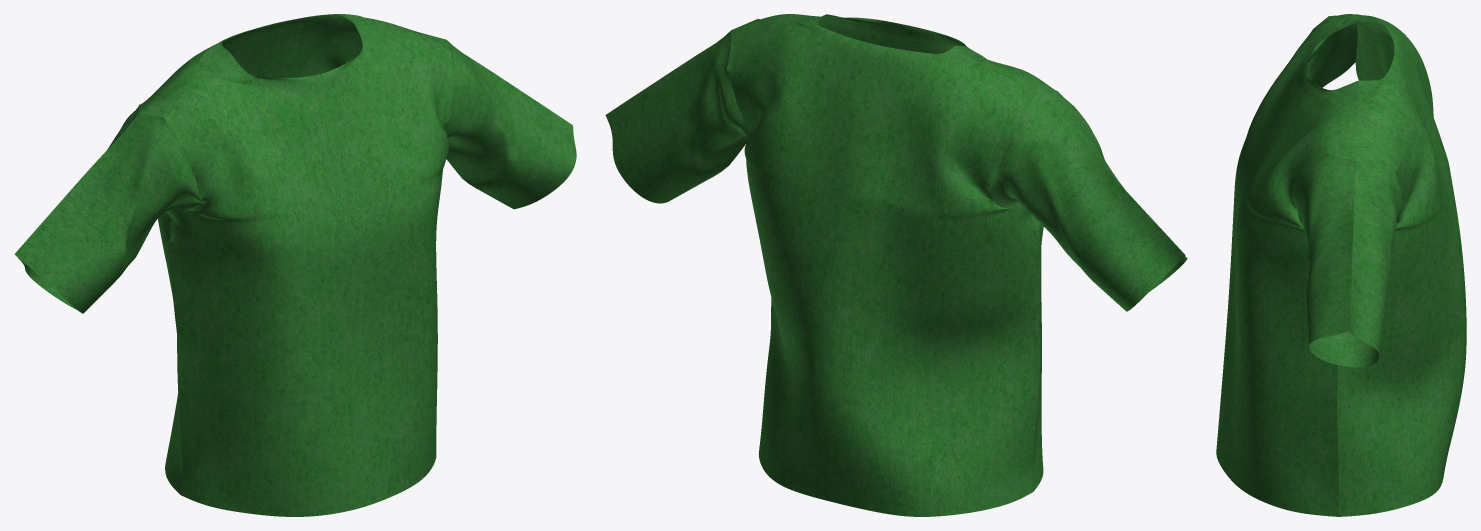
Rendered from Maglietta1.fbx.
3 renders of one model, left to right at view 1: azimuth 30°, elevation 25°; view 2: azimuth 150°, elevation 25°; view 3: azimuth 270°, elevation 25°, orthographic. The views are drawn at different scales.
Parts seen in each view (by area): view 1: T-Shirt; view 2: T-Shirt; view 3: T-Shirt.
Boxes of the visible parts, x1=… form: T-Shirt: x1=14, y1=14, x2=576, y2=516; T-Shirt: x1=605, y1=14, x2=1187, y2=516; T-Shirt: x1=1216, y1=14, x2=1466, y2=516.
Size of the model in its own units: 760 by 550 by 304.
